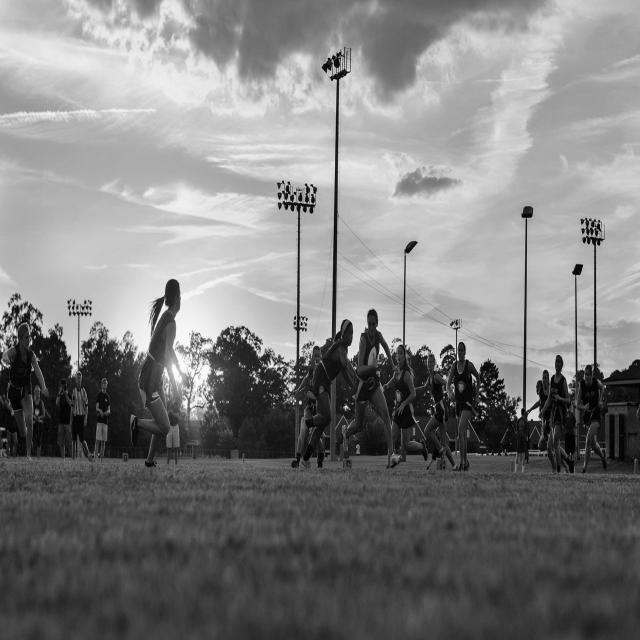person: (338, 308, 404, 470), (298, 316, 362, 472), (132, 281, 183, 471), (0, 328, 50, 462), (384, 343, 427, 469), (417, 346, 460, 472), (445, 339, 483, 470), (574, 367, 607, 474), (168, 376, 189, 488), (540, 373, 560, 479), (308, 341, 323, 474), (67, 376, 89, 461), (92, 379, 113, 463), (556, 347, 570, 468), (30, 374, 44, 470), (56, 374, 70, 466), (514, 416, 530, 473), (533, 379, 543, 427)
